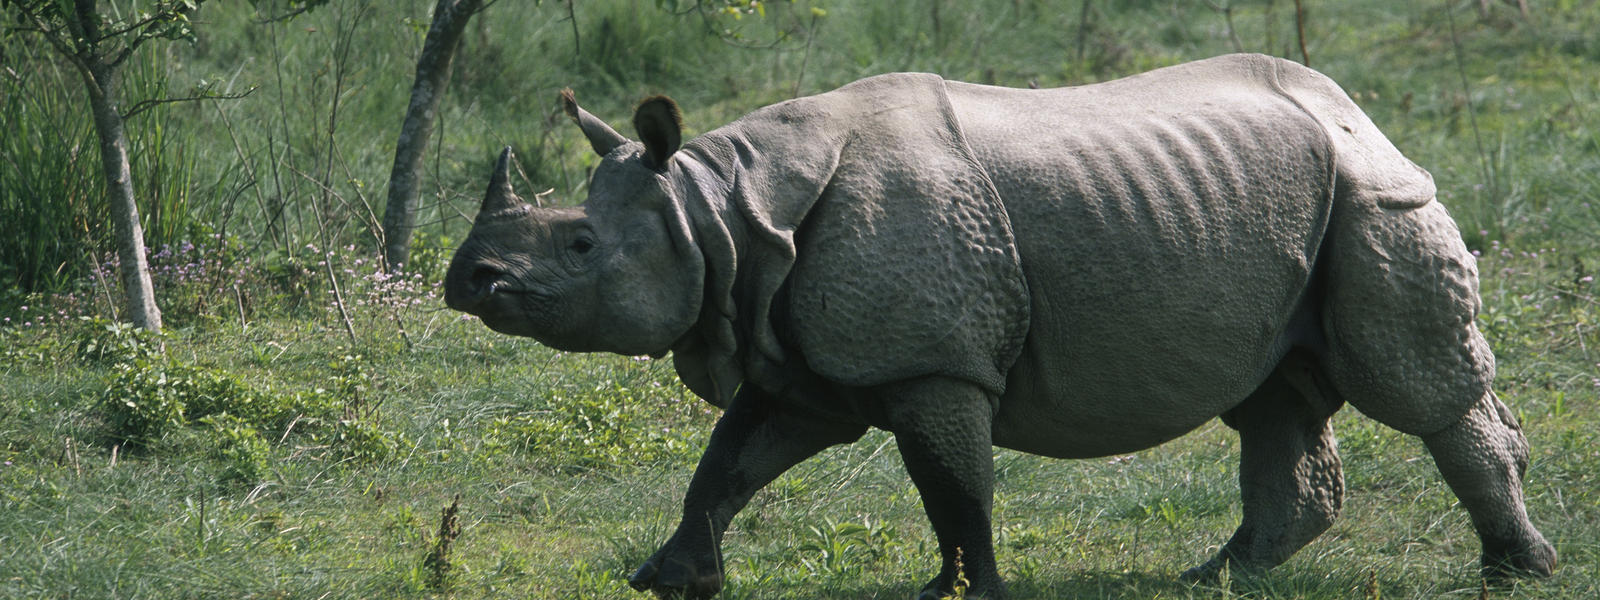rhinoceros: (430, 47, 1576, 597)
